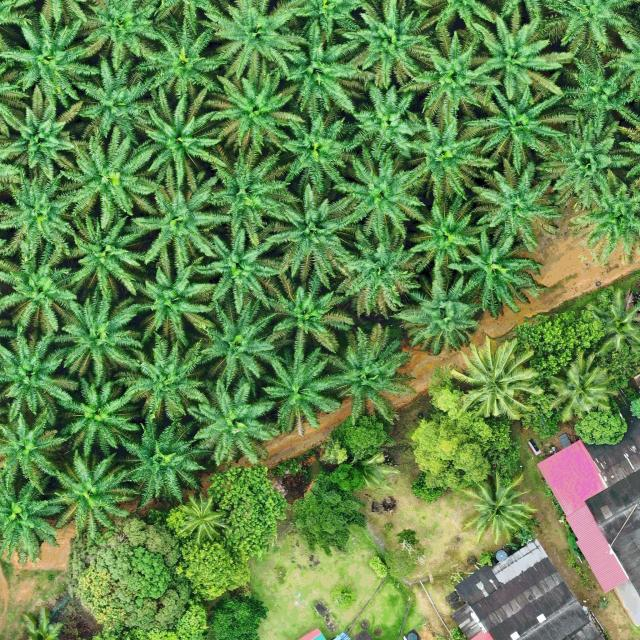Tree: (517, 308, 640, 440), (65, 516, 190, 630), (59, 121, 164, 230), (454, 6, 574, 100), (316, 320, 418, 428), (460, 74, 576, 168), (261, 185, 365, 289), (399, 29, 503, 133), (393, 110, 500, 208), (28, 449, 139, 543), (128, 172, 228, 276), (0, 10, 102, 111), (120, 406, 217, 511), (111, 254, 217, 348), (324, 148, 427, 244), (135, 12, 240, 106), (535, 116, 640, 209), (51, 205, 147, 305), (468, 156, 564, 256), (130, 86, 224, 187), (448, 228, 547, 320), (333, 0, 437, 86), (547, 48, 640, 142), (258, 267, 356, 356), (204, 149, 292, 248), (195, 0, 308, 77), (207, 64, 298, 158), (335, 228, 424, 324), (281, 17, 363, 121), (190, 300, 286, 388), (205, 461, 289, 560), (183, 377, 274, 468), (73, 51, 160, 145), (0, 327, 84, 424), (0, 240, 82, 337), (49, 294, 139, 382), (448, 336, 541, 421), (0, 173, 82, 269), (192, 227, 283, 312), (119, 337, 208, 423), (0, 88, 84, 179), (277, 107, 358, 201), (52, 371, 141, 454), (260, 345, 341, 434), (396, 272, 480, 357), (568, 167, 640, 266), (294, 463, 366, 556), (409, 413, 492, 491), (0, 406, 71, 495), (349, 82, 426, 164), (406, 199, 482, 280), (0, 476, 68, 565), (80, 0, 165, 68), (459, 471, 536, 546), (176, 538, 252, 603), (583, 287, 640, 355), (550, 356, 609, 421), (166, 491, 228, 543), (207, 589, 266, 640), (331, 413, 386, 462), (574, 406, 628, 446)
